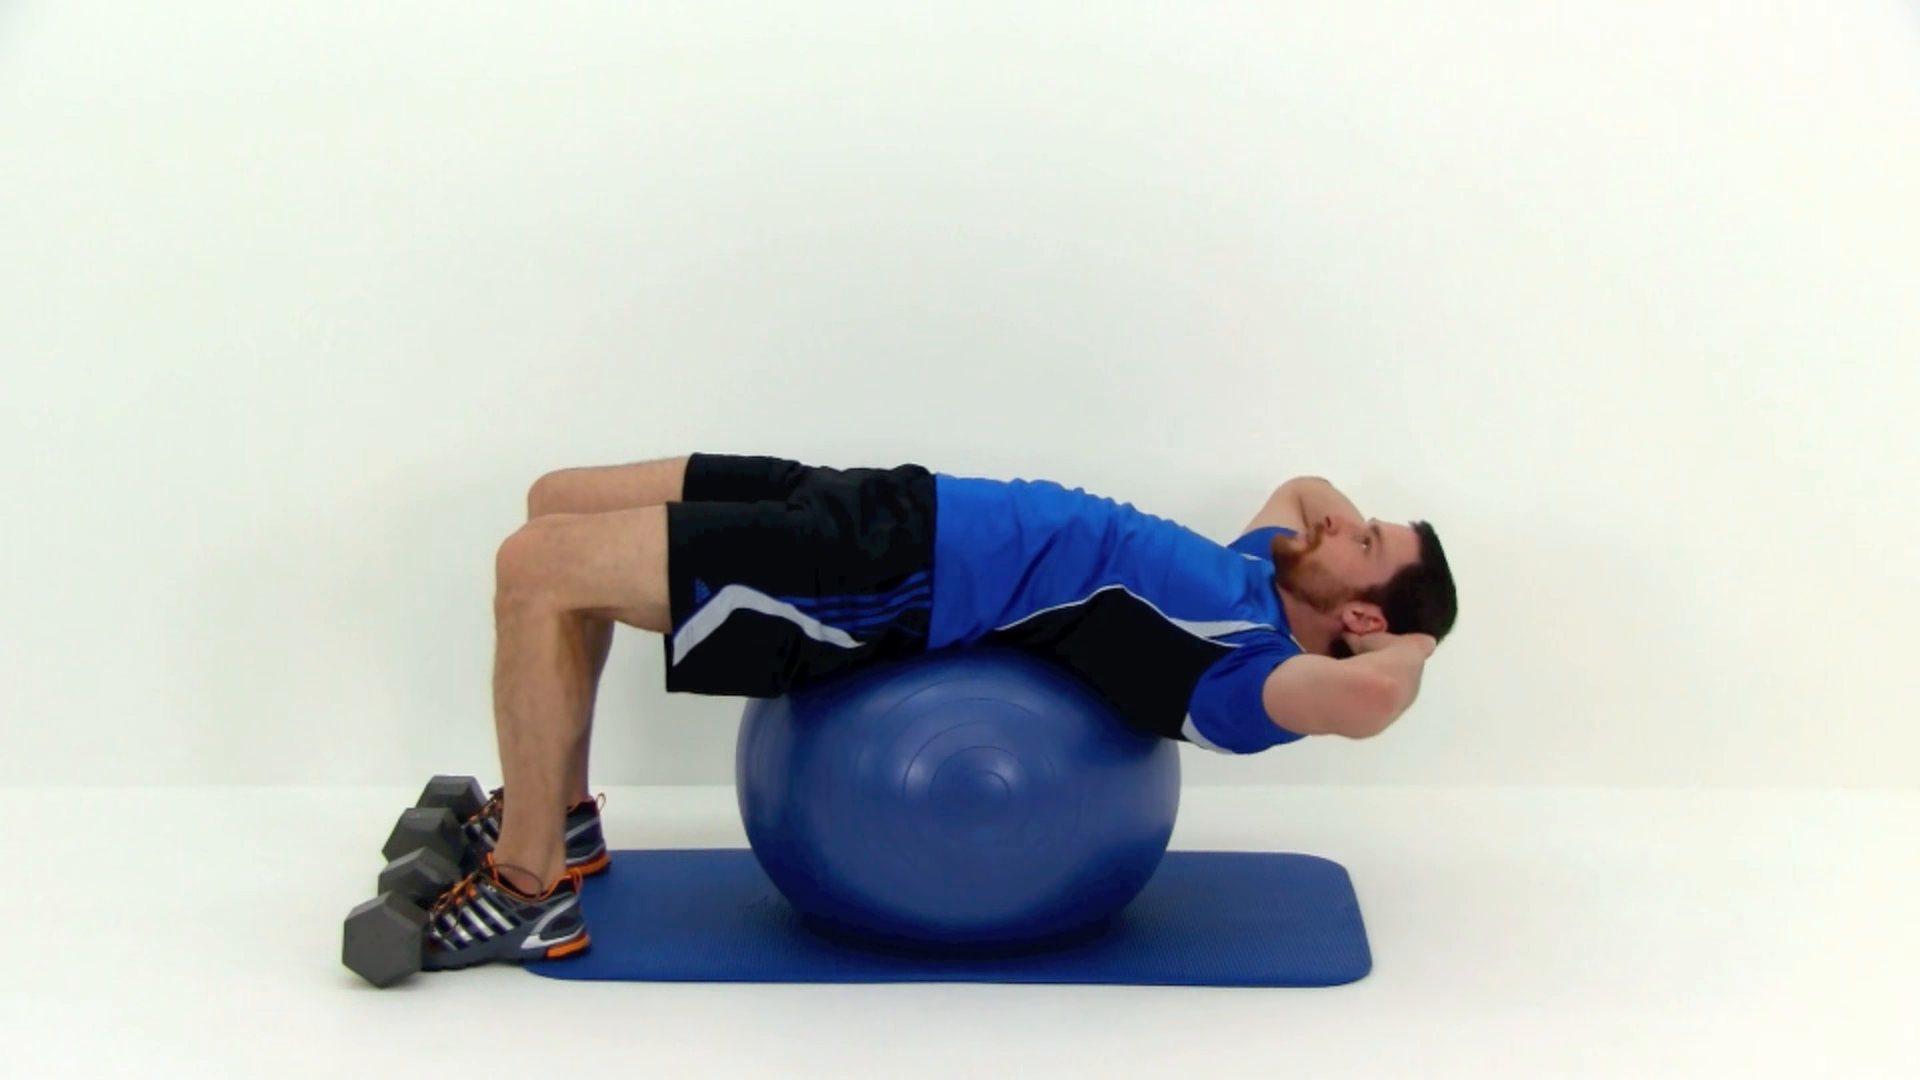yogaball: (716, 636, 1203, 960)
